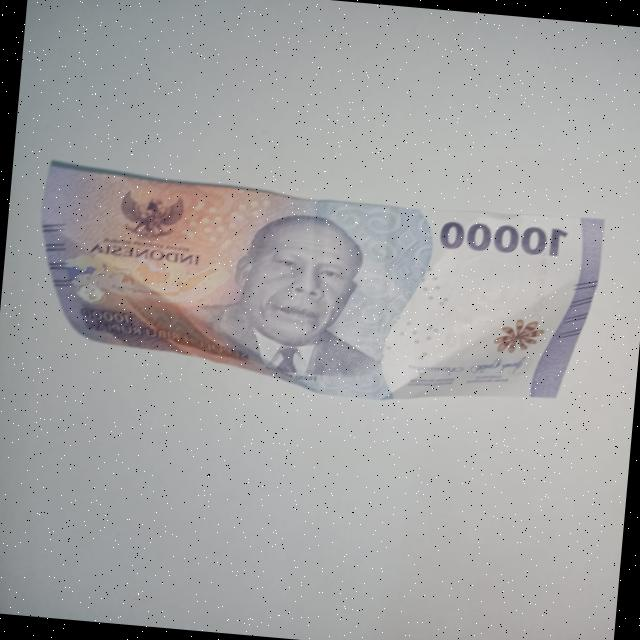10K: (19, 154, 619, 425)
